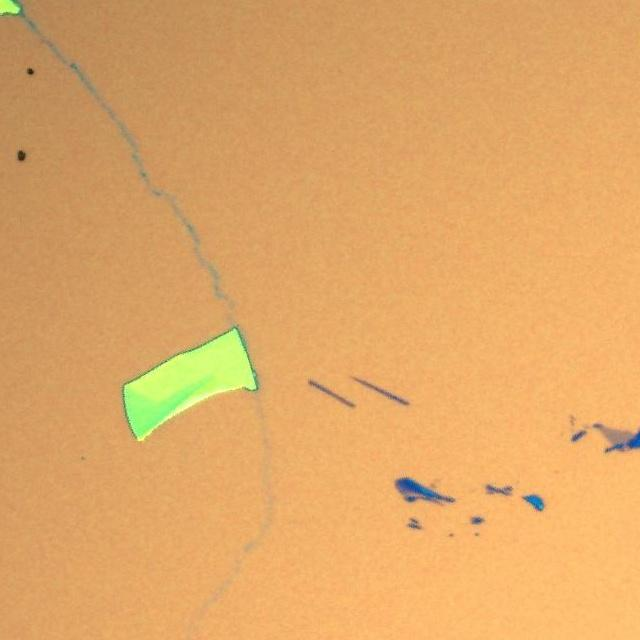monolayer-eWW4: (599, 426, 637, 444)
